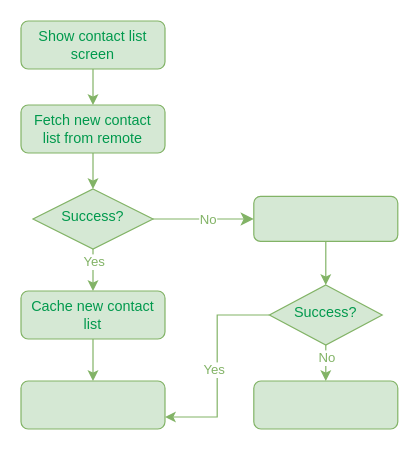
Some shapes in this 419 by 450 pixel diagram are drawn without their labels. The box of each missing label's shape, as (x1, y1, x2, y2) in pixels:
Display contact list: (20, 380, 165, 429)
Display Error: (253, 380, 398, 429)
Load contact list from cache: (253, 195, 398, 241)
